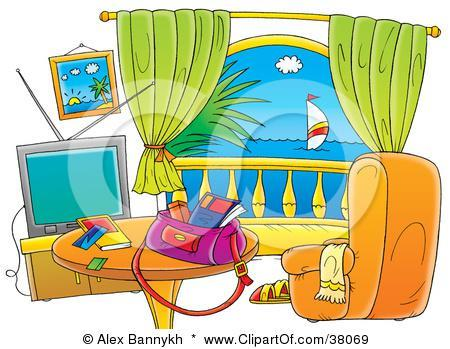tvmonitor: (8, 65, 157, 243)
